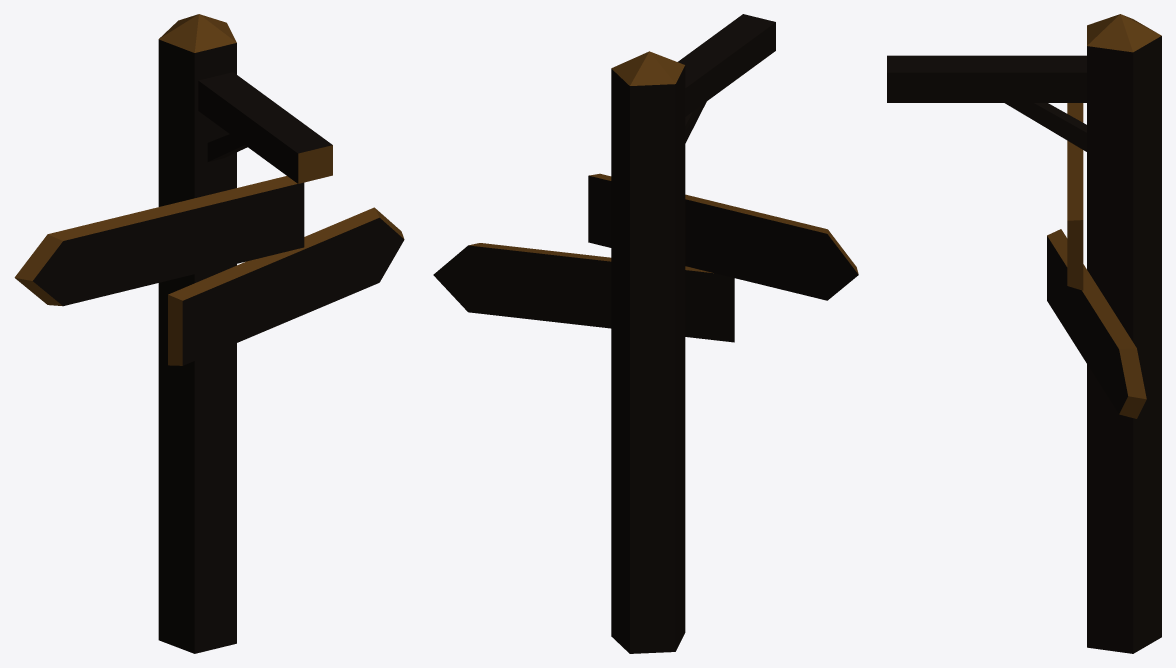
File: Signpost_8.fbx
The picture shows the model from 3 angles, left to right: view 1: azimuth 30°, elevation 25°; view 2: azimuth 150°, elevation 25°; view 3: azimuth 270°, elevation 25°; orthographic projection. The views are drawn at different scales.
Visible parts, largest first — view 1: Signpost_8; view 2: Signpost_8; view 3: Signpost_8.
Part boxes in pixels (bbox=[...]): Signpost_8: bbox=[14, 14, 404, 653]; Signpost_8: bbox=[433, 14, 858, 653]; Signpost_8: bbox=[887, 14, 1161, 653].
Bounding box in the file's own units: 152 × 216 × 86.47.
